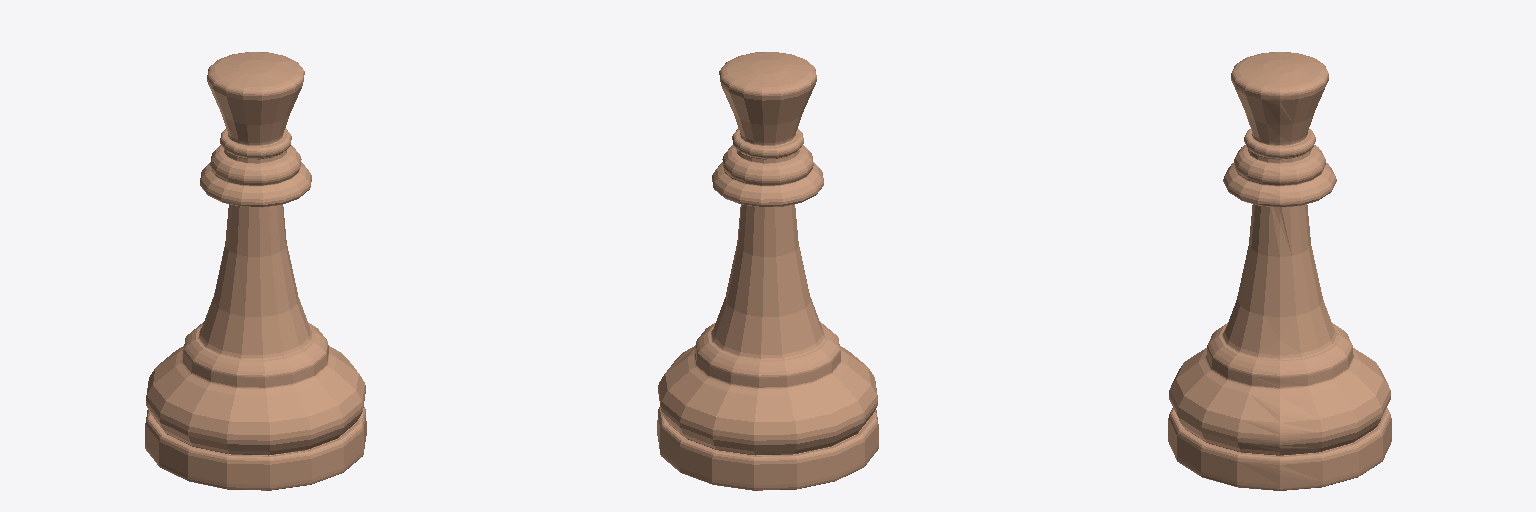
The model's file is reinaB_ficha.obj.
3 renders of one model, left to right at view 1: azimuth 30°, elevation 25°; view 2: azimuth 150°, elevation 25°; view 3: azimuth 270°, elevation 25°, orthographic.
Visible parts, largest first — view 1: revolvedSurface1; view 2: revolvedSurface1; view 3: revolvedSurface1.
Part boxes in pixels (x1,y1,x2,y2): revolvedSurface1: (145,52,366,490); revolvedSurface1: (657,52,878,490); revolvedSurface1: (1168,52,1391,490).
Bounding box in the file's own units: 4.4 × 8.23 × 4.4.